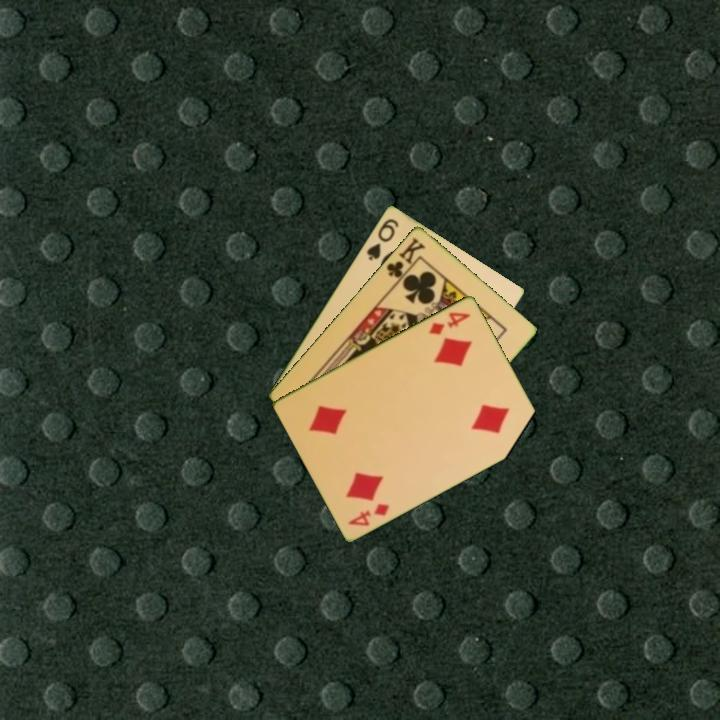4d: (425, 308, 474, 338), (345, 499, 392, 529)
6s: (363, 215, 402, 263)
Kc: (382, 233, 429, 286)
